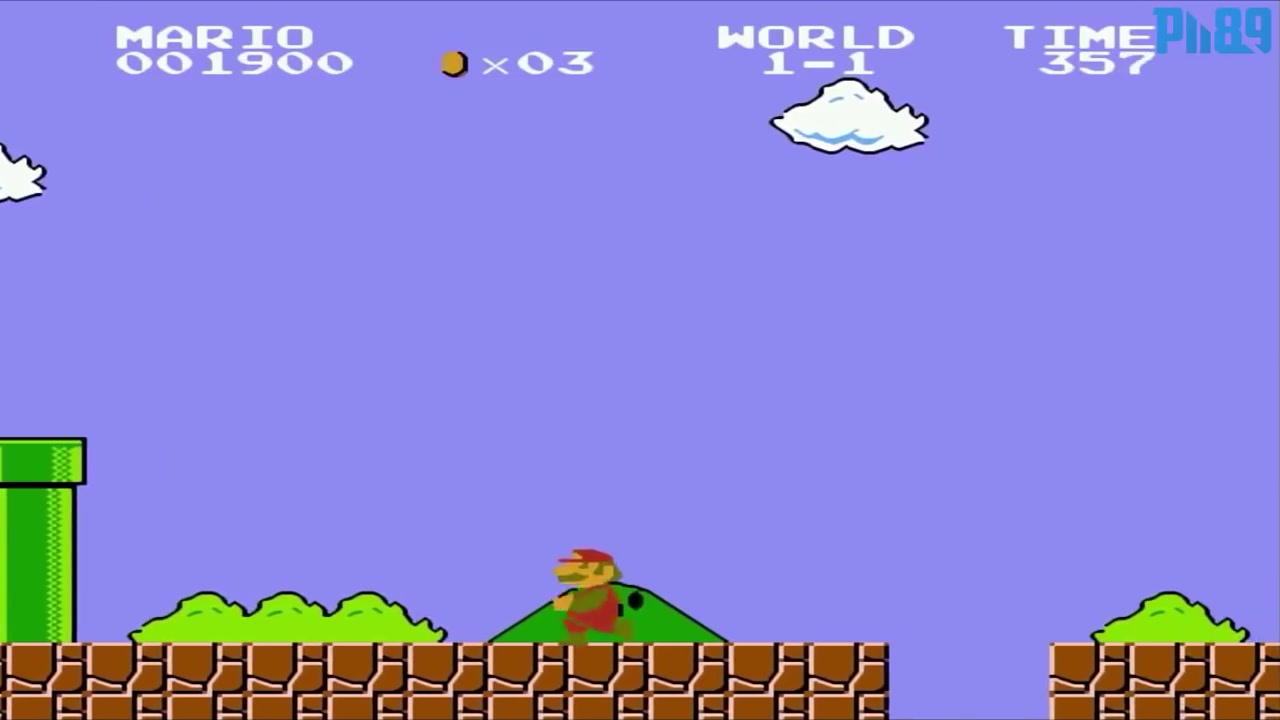mario: (535, 541, 640, 645)
